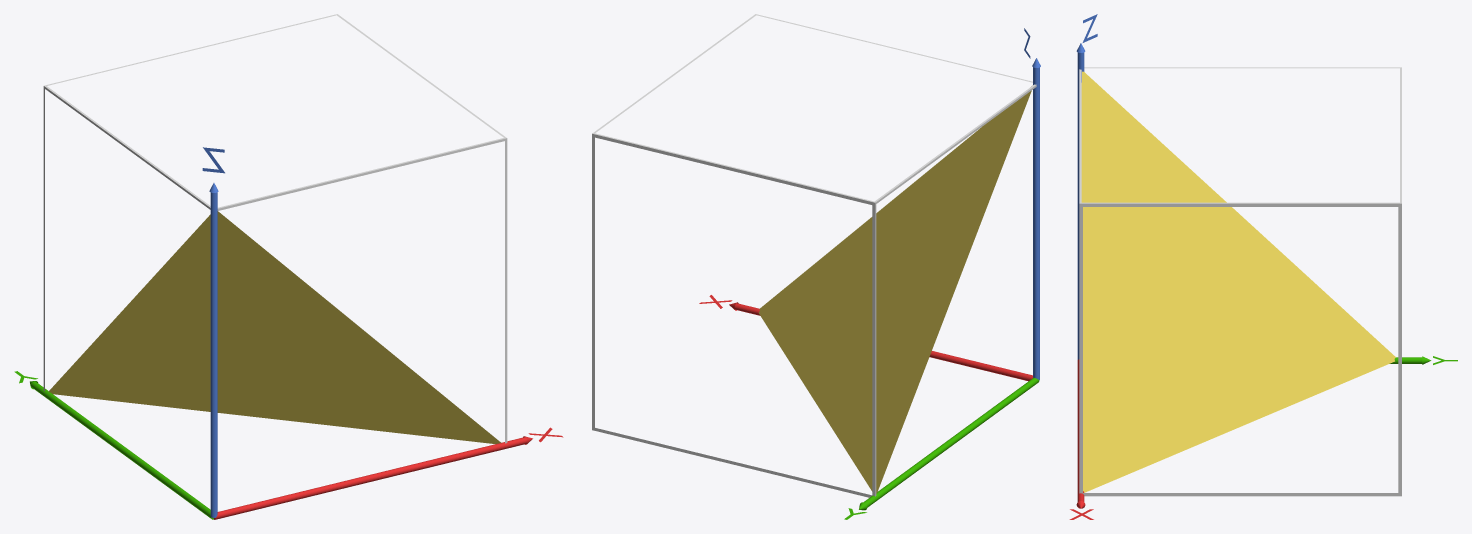
The picture shows the model from 3 angles, left to right: view 1: azimuth 30°, elevation 25°; view 2: azimuth 150°, elevation 25°; view 3: azimuth 270°, elevation 25°; orthographic projection. The views are drawn at different scales.
Parts seen in each view (by area): view 1: Cone, Cube, Z, X, Y; view 2: Cone, Cube, Z, Y, X; view 3: Cone, Cube, Z, X.
Boxes of the visible parts, x1,y1,x2,y2 form: Cone: (48, 211, 501, 443); Cube: (43, 14, 507, 443); Z: (209, 183, 218, 517); X: (214, 436, 532, 519); Y: (30, 381, 213, 519); Cone: (759, 85, 1032, 493); Cube: (592, 14, 1036, 497); Z: (1032, 58, 1040, 380); Y: (859, 378, 1039, 510); X: (729, 302, 1032, 381); Cone: (1081, 71, 1395, 492); Cube: (1079, 67, 1401, 496); Z: (1076, 43, 1085, 359); X: (1076, 359, 1085, 508).
Bounding box in the file's own units: 4.8 × 4.77 × 4.81.
